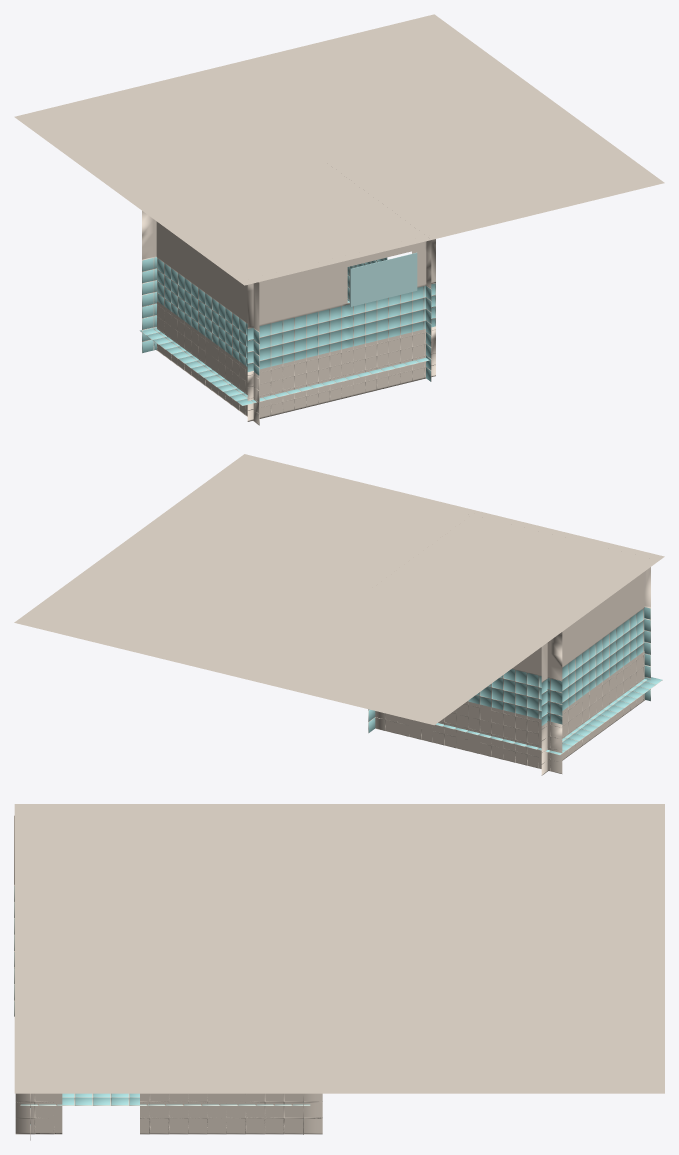
File: Bathroom walls, floor and celing.fbx
3 renders of one model, top to bottom at view 1: azimuth 30°, elevation 25°; view 2: azimuth 150°, elevation 25°; view 3: azimuth 270°, elevation 25°, orthographic. The views are drawn at different scales.
Visible parts, largest first — view 1: Ceiling, Bathroom_wall_tile.004, Bathroom_wall_tile.002, Window_glass, Bathroom_floor, Bathroom_wall_tile.01, Bathroom_wall_tile.003; view 2: Ceiling, Bathroom_wall_tile.01, Bathroom_wall_tile.002, Bathroom_floor, Bathroom_wall_tile.004; view 3: Ceiling, Bathroom_wall_tile.003, Bathroom_floor.
Boxes of the visible parts, x1,y1,x2,y2 form: Ceiling: (14, 14, 664, 285); Bathroom_wall_tile.004: (247, 239, 435, 421); Bathroom_wall_tile.002: (156, 221, 259, 425); Window_glass: (350, 252, 417, 306); Bathroom_floor: (140, 300, 429, 405); Bathroom_wall_tile.01: (142, 211, 156, 353); Bathroom_wall_tile.003: (347, 240, 431, 381); Ceiling: (14, 454, 664, 725); Bathroom_wall_tile.01: (375, 632, 562, 773); Bathroom_wall_tile.002: (541, 572, 644, 775); Bathroom_floor: (435, 677, 662, 755); Bathroom_wall_tile.004: (644, 567, 650, 701); Ceiling: (14, 804, 664, 1093); Bathroom_wall_tile.003: (15, 1093, 322, 1134); Bathroom_floor: (20, 1093, 310, 1105).
Size of the model in its own units: 1609 by 525 by 1530.
